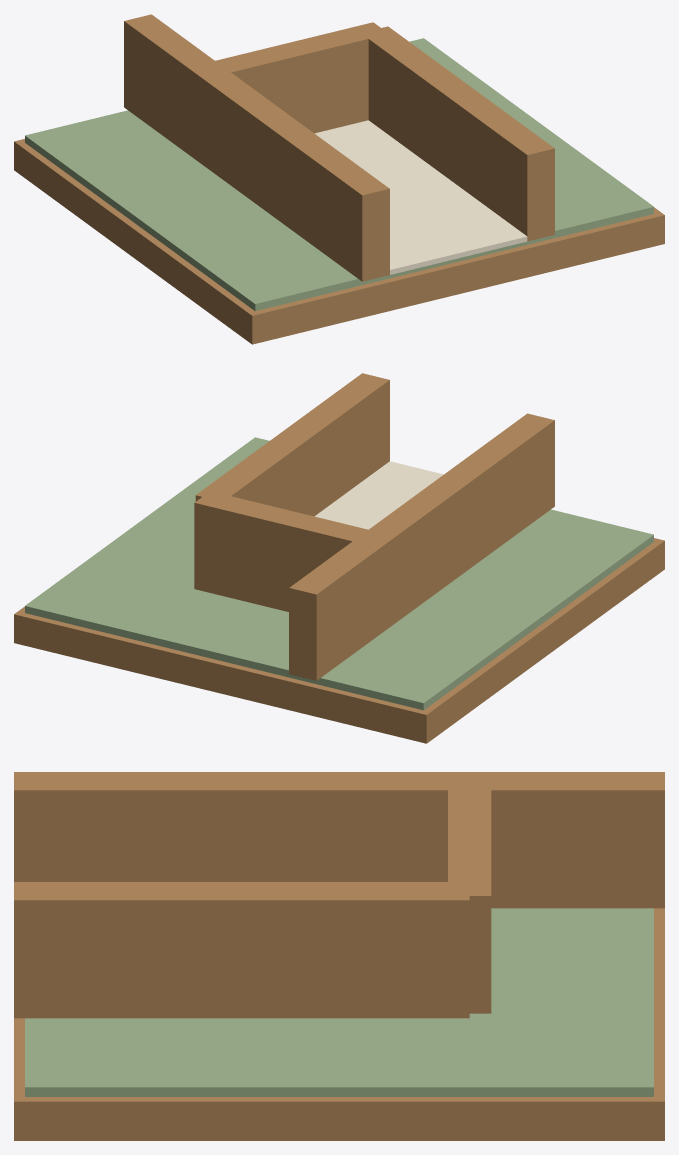
The model's file is tabletop-game-components-corridor-dead-end-32710c17__20867.glb.
The picture shows the model from 3 angles, top to bottom: view 1: azimuth 30°, elevation 25°; view 2: azimuth 150°, elevation 25°; view 3: azimuth 270°, elevation 25°; orthographic projection. The views are drawn at different scales.
Parts seen in each view (by area): view 1: corridor-dead-end; view 2: corridor-dead-end; view 3: corridor-dead-end.
Part boxes in pixels (left/top/right/bottom): corridor-dead-end: left=14, top=14, right=664, bottom=344; corridor-dead-end: left=14, top=373, right=664, bottom=743; corridor-dead-end: left=14, top=772, right=664, bottom=1140.
Bounding box in the file's own units: 0.06 × 0.017 × 0.06.
